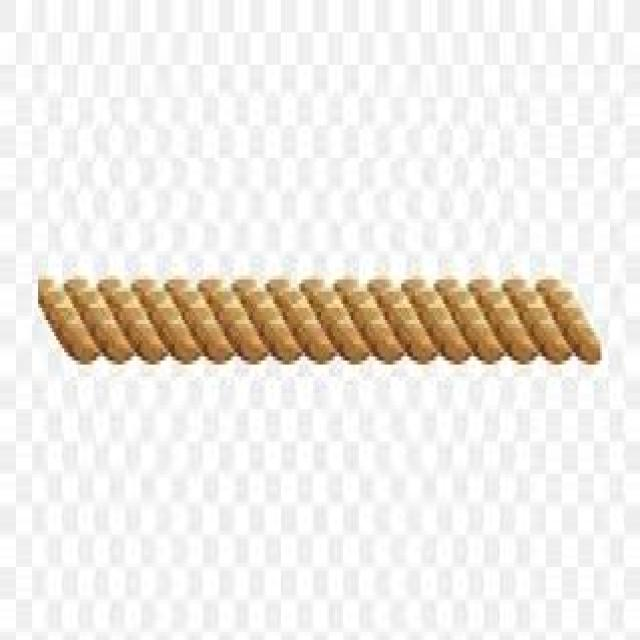rope: (35, 274, 598, 361)
